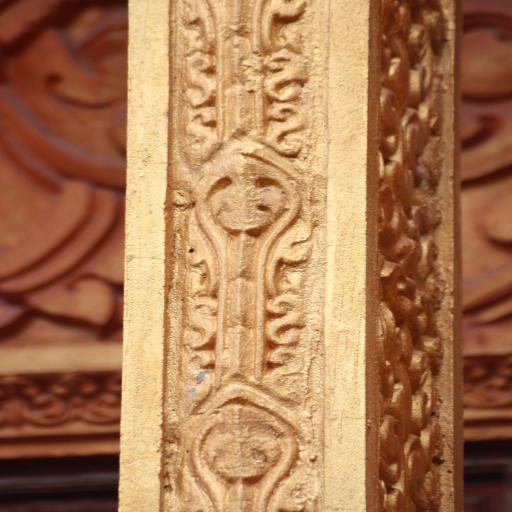la: (178, 141, 306, 383), (177, 0, 308, 143), (178, 381, 305, 512), (386, 315, 442, 512), (388, 153, 441, 318), (392, 2, 443, 155)
